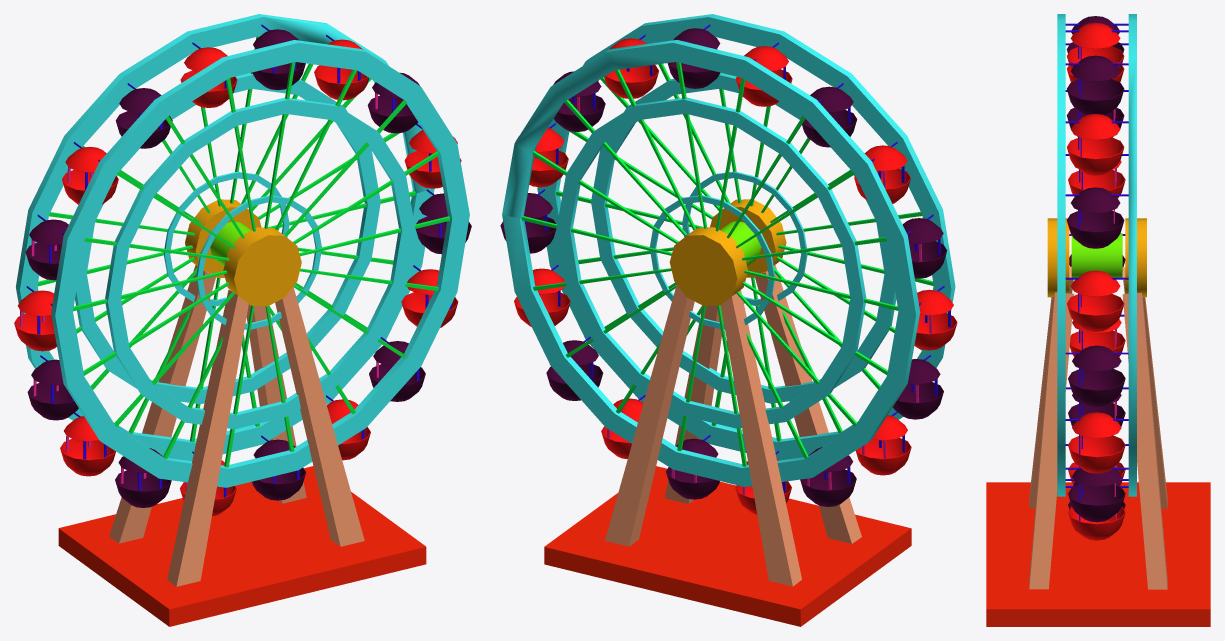
The model's file is Ferris Wheel.FBX.
3 views of the same model, side by side, from view 1: azimuth 30°, elevation 25°; view 2: azimuth 150°, elevation 25°; view 3: azimuth 270°, elevation 25° (orthographic).
Visible parts, largest first — view 1: Tube006, Box001, Box136, Box135, Cylinder028, Cylinder029, Cart004, Cart010, Cart006, Cart032, Cart, Cart027 (+27 smaller); view 2: Tube006, Box001, Box135, Box136, Cylinder029, Cylinder028, Cart004, Cart010, Cart006, Cart032, Cart027, Cart (+27 smaller); view 3: Box001, Tube006, Box135, Box136, Cart032, Cart015, Cart027, Cart020, Cart014, Cart031, Cart018, Cylinder003 (+17 smaller).
Boxes of the visible parts, left/top/right/bottom form: Tube006: left=16, top=14, right=469, bottom=487; Box001: left=58, top=466, right=426, bottom=626; Box136: left=167, top=286, right=364, bottom=586; Box135: left=109, top=265, right=306, bottom=543; Cylinder028: left=223, top=227, right=301, bottom=306; Cylinder029: left=185, top=199, right=261, bottom=277; Cart004: left=60, top=438, right=115, bottom=476; Cart010: left=115, top=470, right=171, bottom=507; Cart006: left=27, top=382, right=78, bottom=420; Cart032: left=314, top=65, right=369, bottom=100; Cart: left=14, top=313, right=56, bottom=351; Cart027: left=367, top=95, right=417, bottom=133; Tube006: left=502, top=14, right=955, bottom=486; Box001: left=544, top=466, right=911, bottom=626; Box135: left=605, top=285, right=801, bottom=586; Box136: left=664, top=265, right=861, bottom=543; Cylinder029: left=669, top=227, right=747, bottom=305; Cylinder028: left=710, top=199, right=786, bottom=277; Cart004: left=856, top=438, right=911, bottom=475; Cart010: left=800, top=469, right=856, bottom=506; Cart006: left=893, top=382, right=943, bottom=419; Cart032: left=604, top=64, right=658, bottom=98; Cart027: left=554, top=94, right=605, bottom=131; Cart: left=914, top=313, right=957, bottom=350; Box001: left=986, top=482, right=1210, bottom=626; Tube006: left=1057, top=14, right=1136, bottom=496; Box135: left=1122, top=267, right=1167, bottom=589; Box136: left=1029, top=266, right=1074, bottom=589; Cart032: left=1067, top=137, right=1124, bottom=175; Cart015: left=1067, top=294, right=1124, bottom=331; Cart027: left=1066, top=210, right=1124, bottom=248; Cart020: left=1068, top=435, right=1125, bottom=473; Cart014: left=1068, top=368, right=1125, bottom=406; Cart031: left=1067, top=79, right=1124, bottom=115; Cart018: left=1068, top=484, right=1125, bottom=522; Cylinder003: left=1071, top=233, right=1122, bottom=277.
Bounding box in the file's own units: 2820 × 3103 × 1204.
